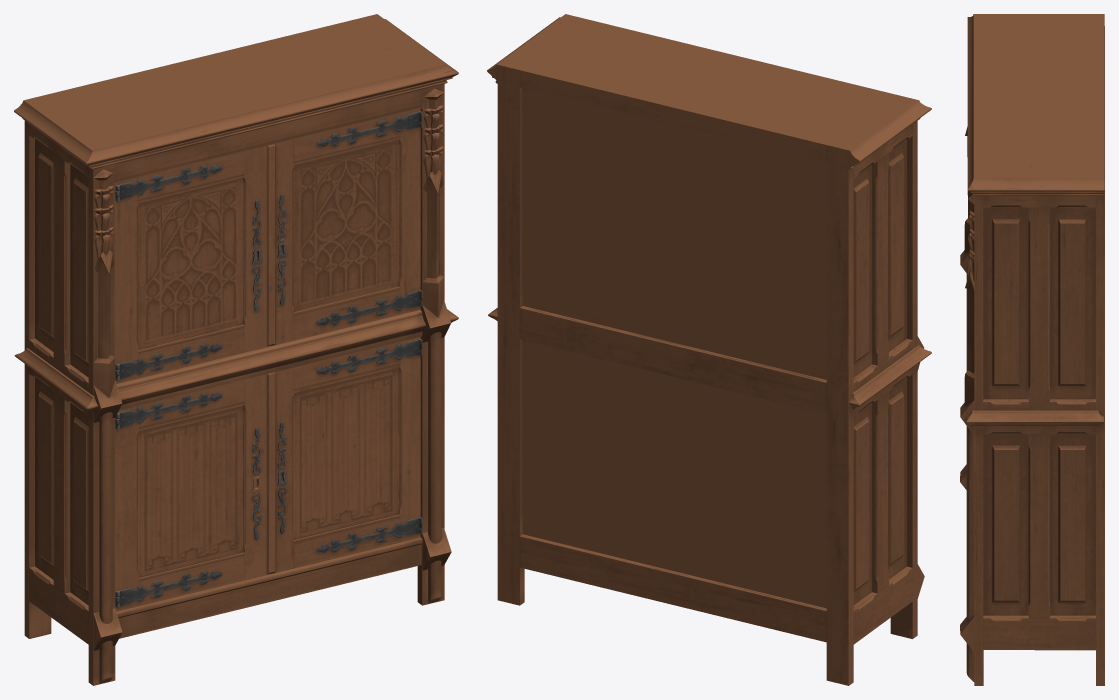
The model's file is wardrobe-carved.glb.
3 views of the same model, side by side, from view 1: azimuth 30°, elevation 25°; view 2: azimuth 150°, elevation 25°; view 3: azimuth 270°, elevation 25° (orthographic). The views are drawn at different scales.
Visible parts, largest first — view 1: GothicCabinet_01_cabinet, GothicCabinet_01_door4; view 2: GothicCabinet_01_cabinet; view 3: GothicCabinet_01_cabinet.
Boxes of the visible parts, box(x1,y1,x2,y2) form: GothicCabinet_01_cabinet: box(14, 14, 458, 685); GothicCabinet_01_door4: box(115, 111, 423, 607); GothicCabinet_01_cabinet: box(487, 14, 931, 685); GothicCabinet_01_cabinet: box(960, 14, 1104, 685).
Size of the model in its own units: 1.72 by 2.36 by 0.6093.
2 materials, 2 textured.
